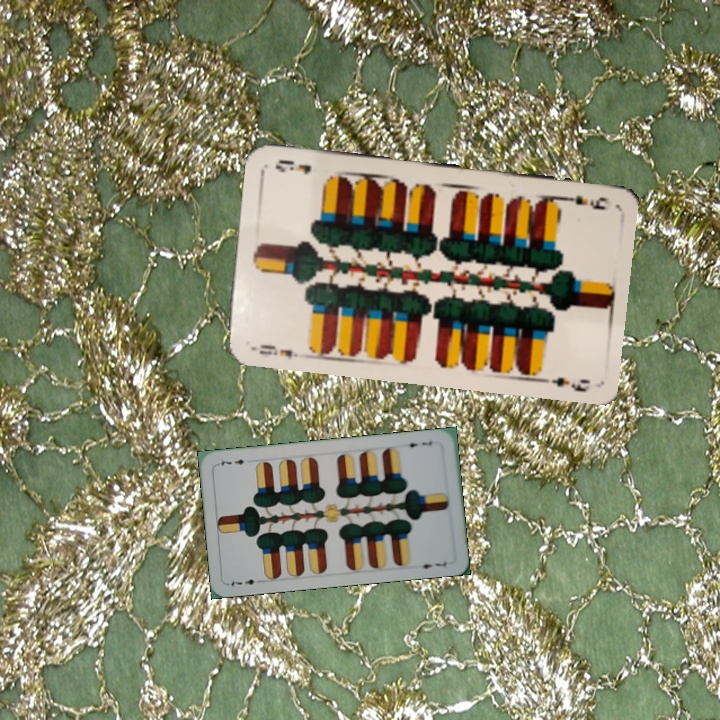E7: (226, 575, 265, 588), (401, 437, 435, 450)
E9: (555, 191, 613, 213), (255, 340, 301, 360)
